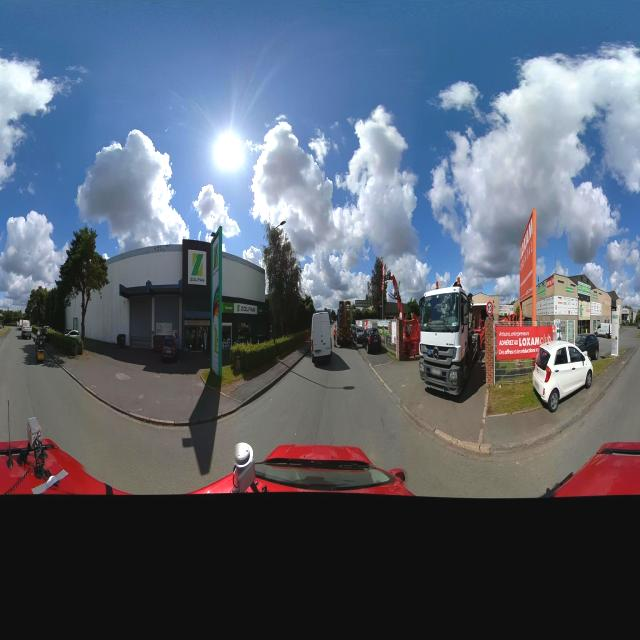car: (532, 340, 594, 412), (575, 332, 599, 360), (161, 334, 181, 362), (366, 328, 384, 354), (22, 320, 32, 340)
